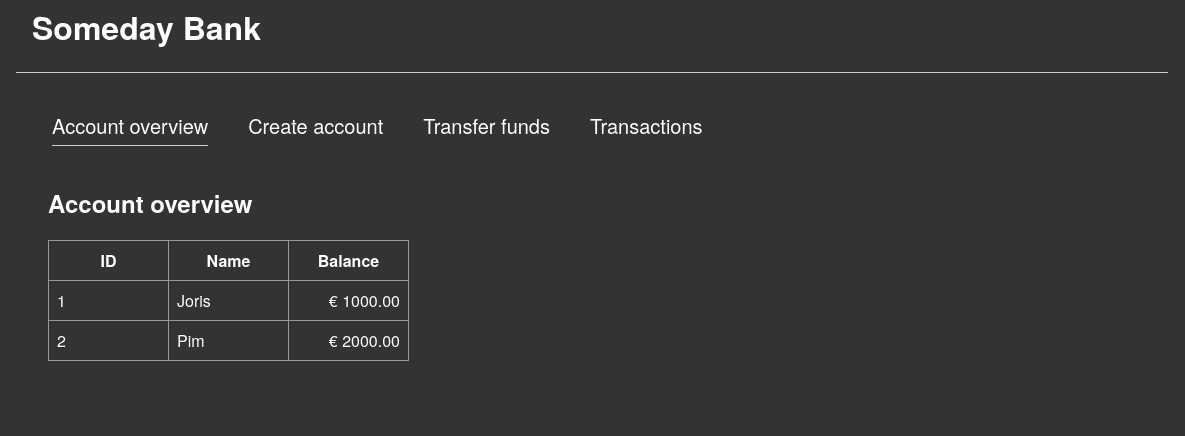
Test: Actions › should add a new account
This screenshot has width=1185, height=436.
Click the link "Create account" at (316, 126), box [248, 111, 383, 140]
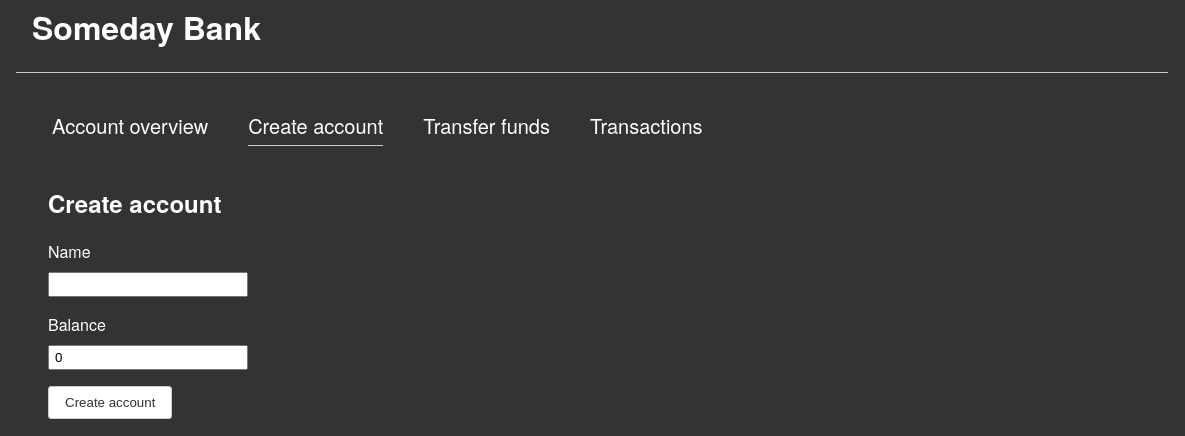
Type "Tom" into the field named "name" at (148, 285), box [48, 272, 248, 297]
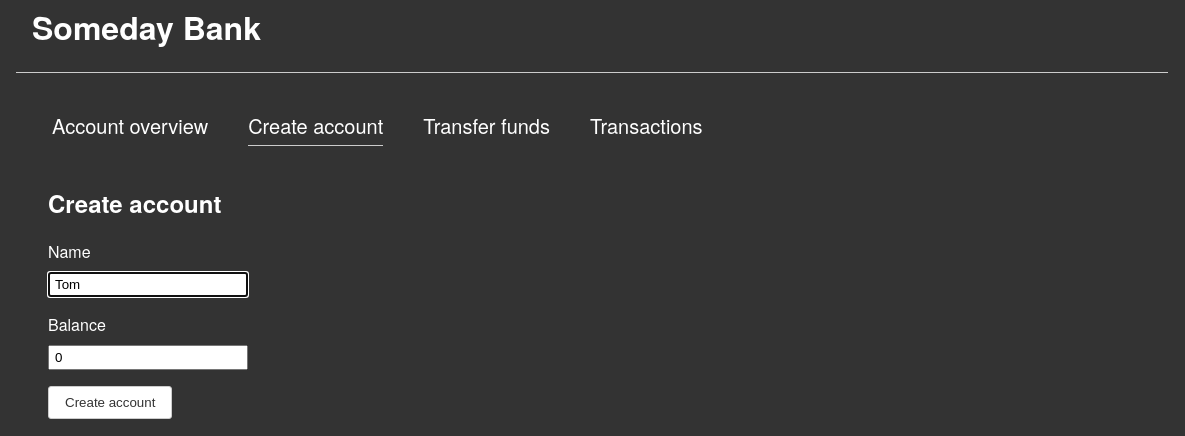
Type "500" into the number field named "balance" at (148, 358), box [48, 345, 248, 370]
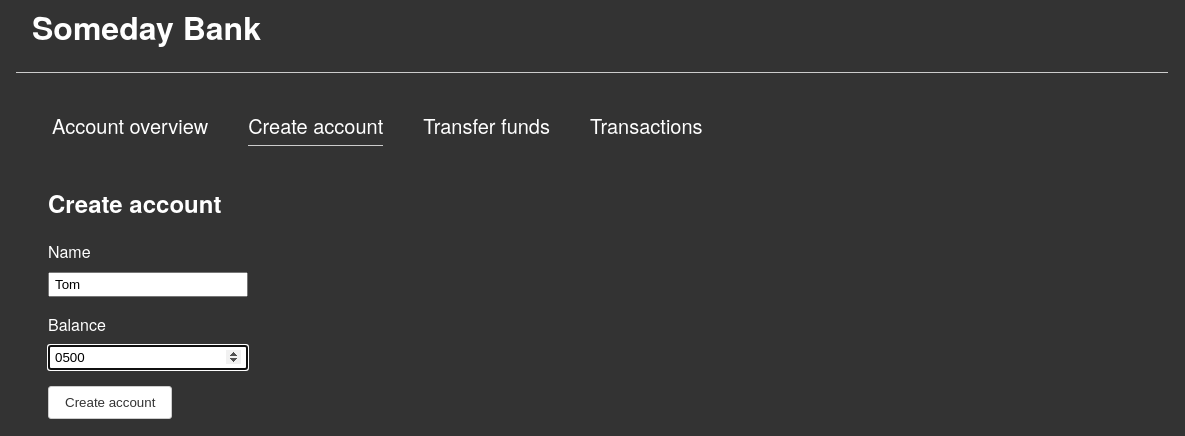
Click the button "Create account" at (110, 403), box [48, 386, 172, 419]
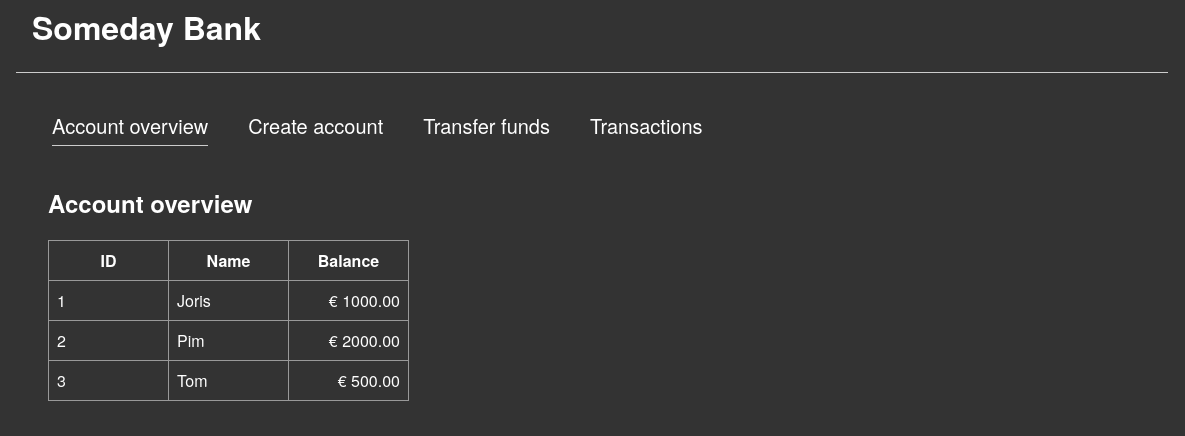
Expected: the link "Account overview" is shown, [52, 111, 208, 140]
Now the text "500.00" is shown, box [338, 369, 400, 392]
